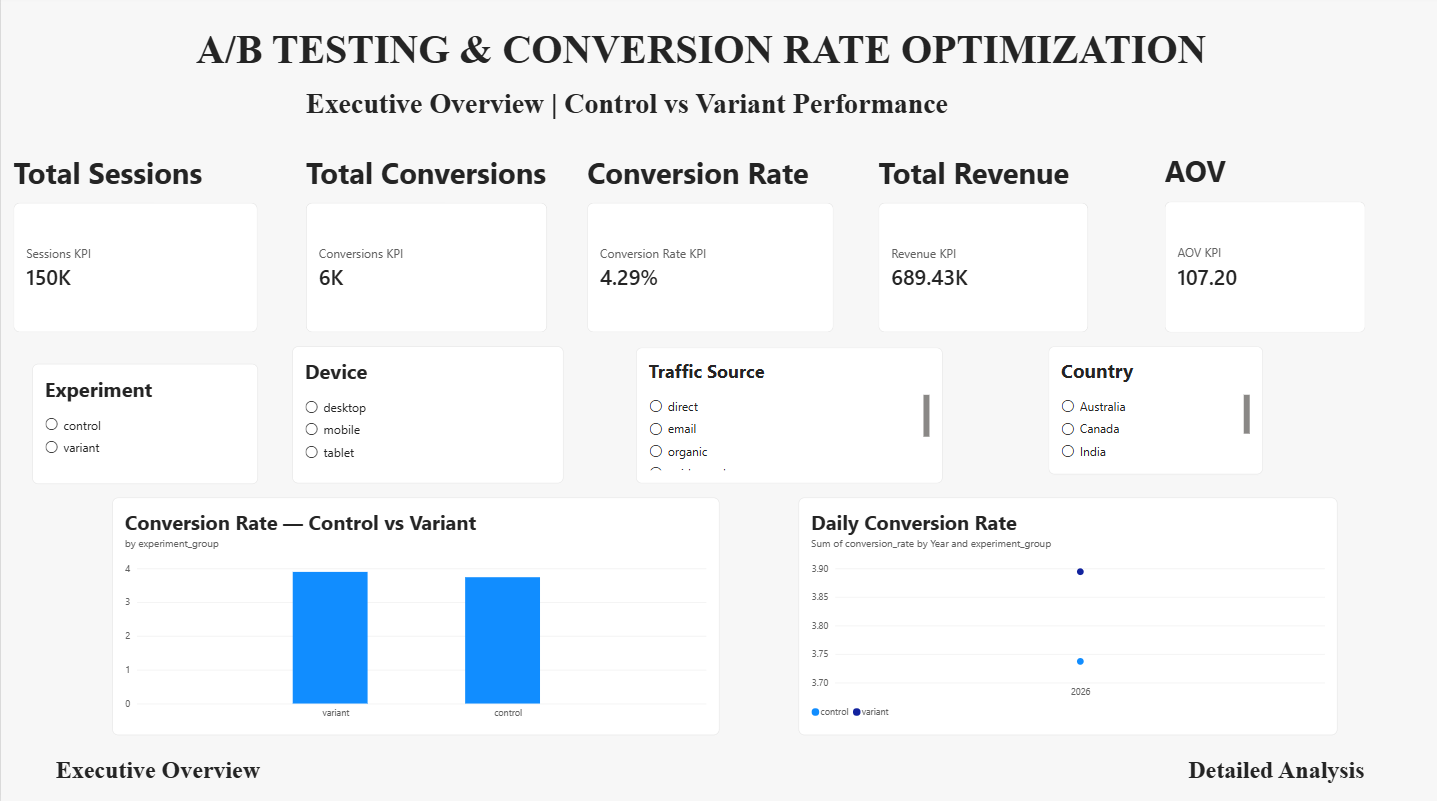

The page's visual inventory and layout, read from the dashboard file:
{"tool":"powerbi","page":{"name":"Executive Overview","canvas":[1920,1080],"ordinal":0},"visuals":[{"type":"cardVisual","title":"Total Sessions","fields":{"Data":["public_experiment_sessions.Sessions KPI"]},"box":[17.4,211,326.2,240.7],"z":0},{"type":"cardVisual","title":"Total Conversions","fields":{"Data":["public_experiment_sessions.Conversions KPI"]},"box":[408.1,211,322.7,240.7],"z":1000},{"type":"cardVisual","title":"Conversion Rate","fields":{"Data":["public_experiment_sessions.Conversion Rate KPI"]},"box":[783.1,211,329.7,240.7],"z":2000},{"type":"cardVisual","title":"Total Revenue","fields":{"Data":["public_experiment_sessions.Revenue KPI"]},"box":[1172.1,211,280.8,240.7],"z":3000},{"type":"cardVisual","title":"AOV","fields":{"Data":["public_experiment_sessions.AOV KPI"]},"box":[1554.1,209.3,268.6,242.4],"z":4000},{"type":"textbox","box":[207.4,0,1476.9,123.9],"z":5000},{"type":"textbox","box":[247.7,43.6,1491.3,80.2],"z":6000},{"type":"listSlicer","title":"Experiment","fields":{"Values":["public_experiment_sessions.experiment_group"]},"box":[41.9,491.9,301.7,160.5],"z":7000},{"type":"listSlicer","title":"Traffic Source","fields":{"Values":["public_experiment_sessions.traffic_source"]},"box":[847.7,470.9,409.9,181.4],"z":8000},{"type":"listSlicer","title":"Country","fields":{"Values":["public_experiment_sessions.country"]},"box":[1398.8,469.2,286,170.9],"z":9000},{"type":"clusteredColumnChart","title":"Conversion Rate — Control vs Variant","fields":{"Category":["public experiment_daily_summary.experiment_group"],"Y":["Sum(public experiment_daily_summary.conversion_rate)"]},"box":[148.3,671.5,811,317.4],"z":10000},{"type":"lineChart","title":"Daily Conversion Rate","fields":{"Category":["public experiment_daily_summary.session_date.Variation.Date Hierarchy.Year","public experiment_daily_summary.session_date.Variation.Date Hierarchy.Quarter","public experiment_daily_summary.session_date.Variation.Date Hierarchy.Month","public experiment_daily_summary.session_date.Variation.Date Hierarchy.Day"],"Y":["Sum(public experiment_daily_summary.conversion_rate)"],"Series":["public experiment_daily_summary.experiment_group"]},"box":[1065.7,671.5,720.4,317.4],"z":11000},{"type":"listSlicer","title":"Device","fields":{"Values":["public_experiment_sessions.device_type"]},"box":[389,469.2,362.8,183.1],"z":12000},{"type":"textbox","box":[408.1,123.8,992.4,75],"z":13000},{"type":"textbox","box":[17.4,371.5,444.8,120.3],"z":14000},{"type":"textbox","box":[64.5,1016.9,1833.1,62.8],"z":15000}]}

Visuals, with their boxes in screenshot pixels (x1, y1, x2, y2), scaled from the page's 1920x1080 canvas onto the 1437x801 screenshot:
"Total Sessions" cardVisual: {"x1": 13, "y1": 156, "x2": 257, "y2": 335}
"Total Conversions" cardVisual: {"x1": 305, "y1": 156, "x2": 547, "y2": 335}
"Conversion Rate" cardVisual: {"x1": 586, "y1": 156, "x2": 833, "y2": 335}
"Total Revenue" cardVisual: {"x1": 877, "y1": 156, "x2": 1087, "y2": 335}
"AOV" cardVisual: {"x1": 1163, "y1": 155, "x2": 1364, "y2": 335}
textbox: {"x1": 155, "y1": 0, "x2": 1261, "y2": 92}
textbox: {"x1": 185, "y1": 32, "x2": 1302, "y2": 92}
"Experiment" listSlicer: {"x1": 31, "y1": 365, "x2": 257, "y2": 484}
"Traffic Source" listSlicer: {"x1": 634, "y1": 349, "x2": 941, "y2": 484}
"Country" listSlicer: {"x1": 1047, "y1": 348, "x2": 1261, "y2": 475}
"Conversion Rate — Control vs Variant" clusteredColumnChart: {"x1": 111, "y1": 498, "x2": 718, "y2": 733}
"Daily Conversion Rate" lineChart: {"x1": 798, "y1": 498, "x2": 1337, "y2": 733}
"Device" listSlicer: {"x1": 291, "y1": 348, "x2": 563, "y2": 484}
textbox: {"x1": 305, "y1": 92, "x2": 1048, "y2": 147}
textbox: {"x1": 13, "y1": 276, "x2": 346, "y2": 365}
textbox: {"x1": 48, "y1": 754, "x2": 1420, "y2": 800}
